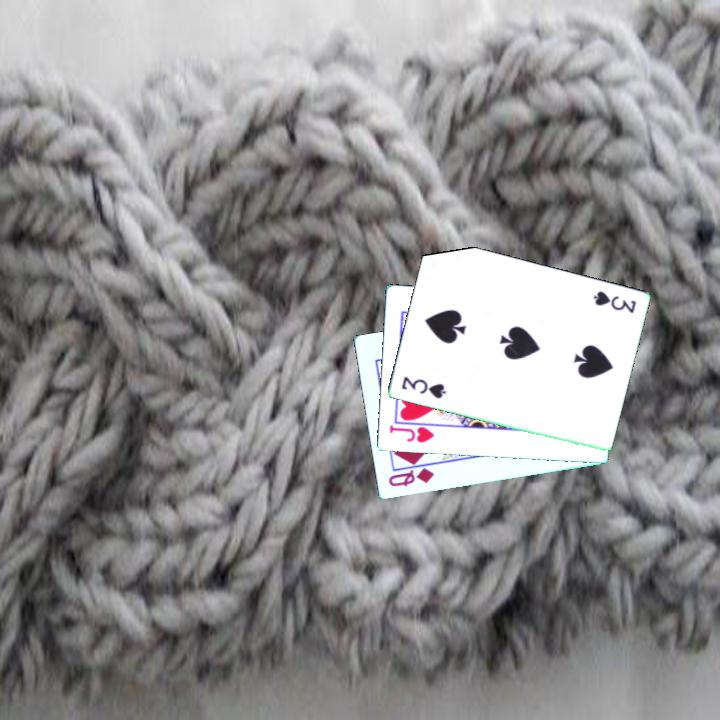3s: (398, 373, 449, 402), (589, 288, 639, 316)
Jh: (386, 422, 437, 446)
Qd: (385, 461, 437, 490)
